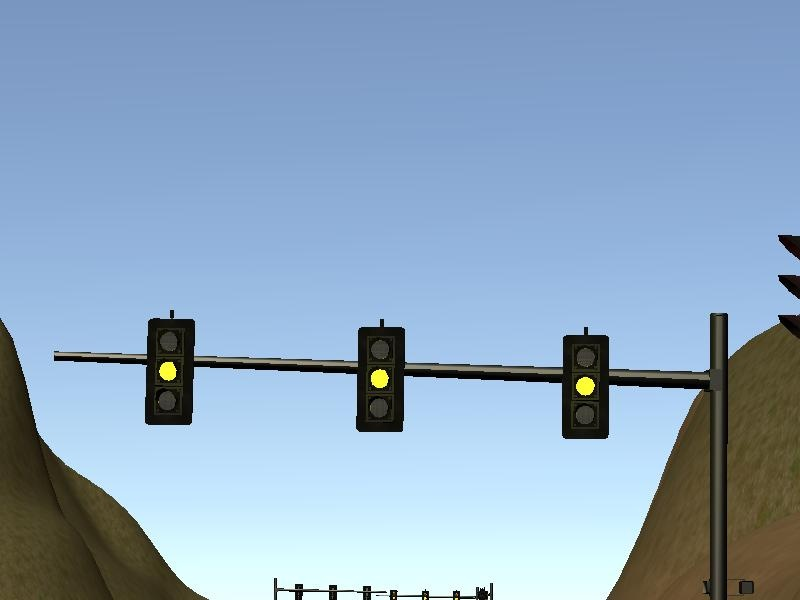YELLOW: (145, 307, 197, 428), (354, 317, 406, 433), (558, 326, 611, 438)
